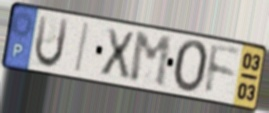F: (203, 42, 242, 97)
I: (72, 21, 92, 76)
M: (128, 30, 174, 90)
O: (172, 38, 211, 96)
U: (32, 13, 71, 71)
X: (98, 26, 136, 81)
